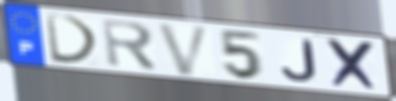5: (216, 28, 268, 81)
D: (42, 12, 102, 66)
J: (279, 37, 320, 83)
R: (100, 17, 161, 73)
V: (154, 21, 213, 77)
X: (324, 37, 382, 94)
